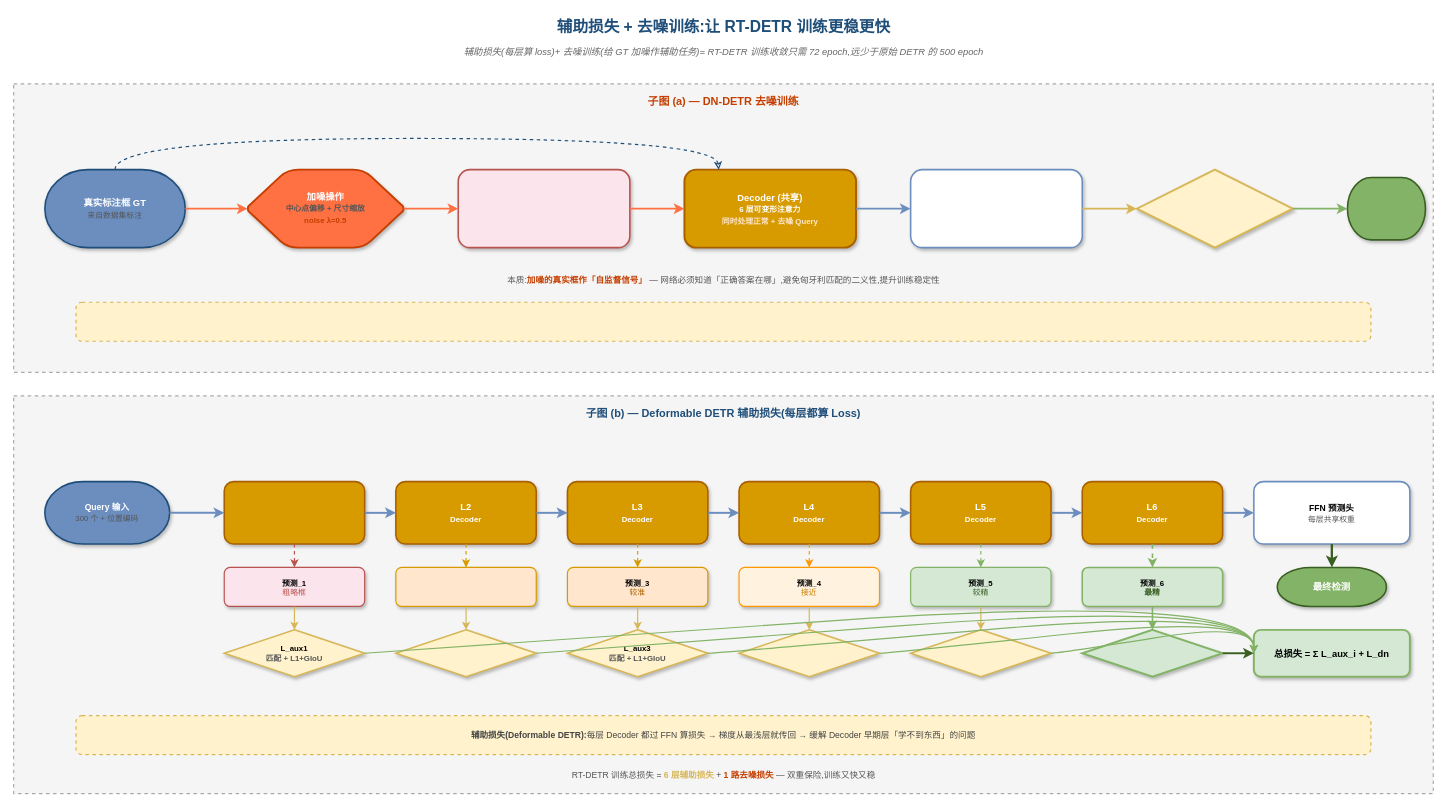
This 1448x807 diagram has some shape labels left out. The centre of each missing label's shape, as x and y in pixels:
"L1 Decoder" goes at (x=295, y=513).
"L_aux2 匹配 + L1+GIoU" goes at (x=466, y=654).
"L_aux4 匹配 + L1+GIoU" goes at (x=810, y=654).
"L_aux5 匹配 + L1+GIoU" goes at (x=981, y=654).
"L_aux6 (主) 匹配 + L1+GIoU" goes at (x=1153, y=654).
"关键点: 去噪 Query & 正常 Query 共享 Decoder 权重 ,梯度来自两条路径 → 需要解耦(详见 v3-dds 图)" goes at (x=723, y=321).
"加噪框作为 Query 额外 Query 拼接到正常 Query" goes at (x=544, y=209).
"去噪损失 L_dn L1 + GIoU(预测 vs GT)" goes at (x=1215, y=209).
"目标:预测 = GT 「去噪」= 把噪声框拉回真实位置" goes at (x=1387, y=209).
"预测_2 改善" goes at (x=466, y=587).
"预测框(去噪分支) 去噪 Query 对应的输出" goes at (x=996, y=209).
